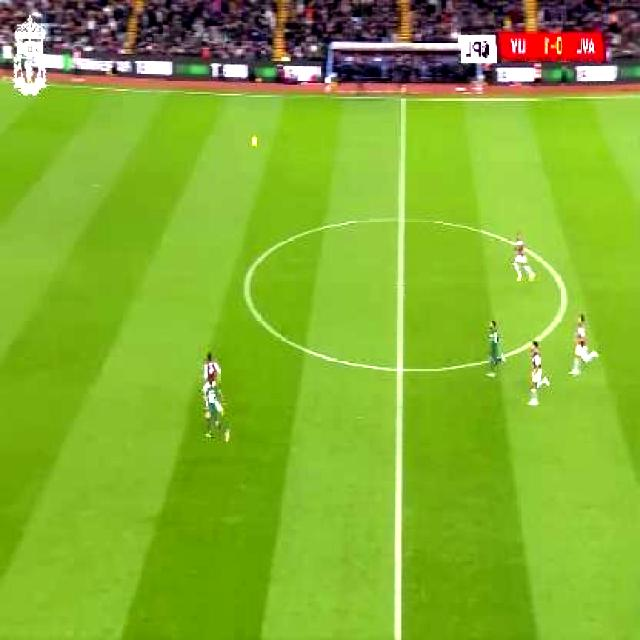halfcircle_bottom: (390, 349, 416, 388)
halfcircle_top: (391, 202, 415, 236)
midline_top_intersection: (394, 84, 414, 110)
